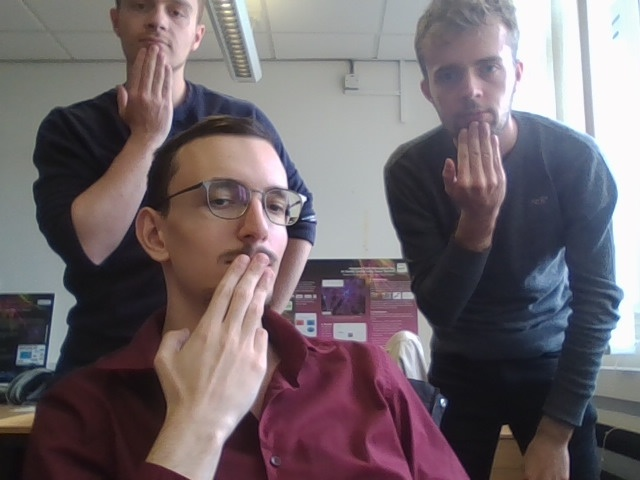livelong: (152, 252, 272, 415), (440, 119, 509, 224), (113, 44, 173, 131)
